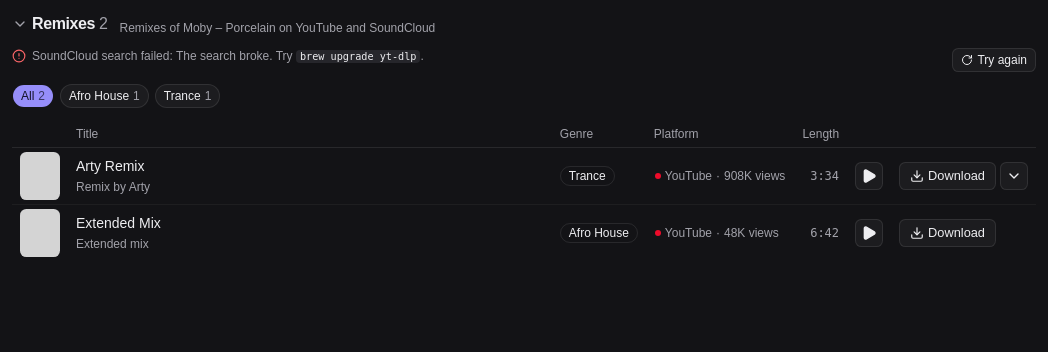
when a search fails › keeps the quick rows when the full search fails, shows its error as SoundCloud’s, and tries again
The width and height of the screenshot is (1048, 352).
Check: the list item "SoundCloud search failed: The search broke." reads "SoundCloud search failed: The search broke. Try brew upgrade yt-dlp.", box 12,48 -> 424,64
Check: the text "brew upgrade yt-dlp" is shown, box 296,50 -> 420,63
Click the button "Try again" at coordinates (994, 60), box 952,48 -> 1036,72
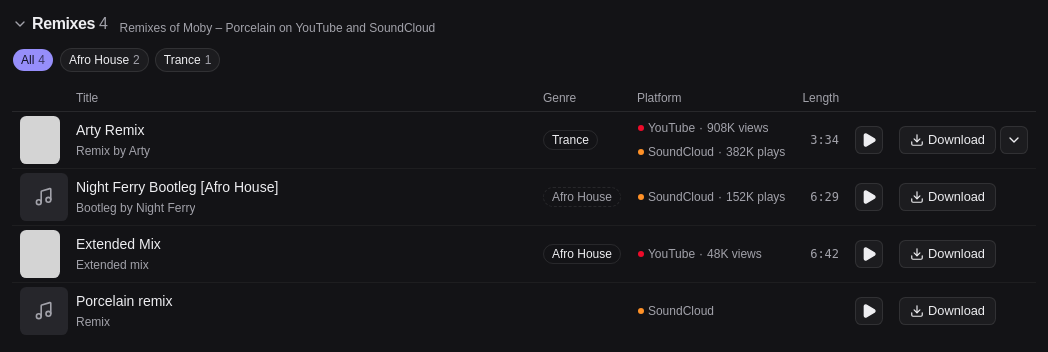
Check: the text "search failed" is gone
